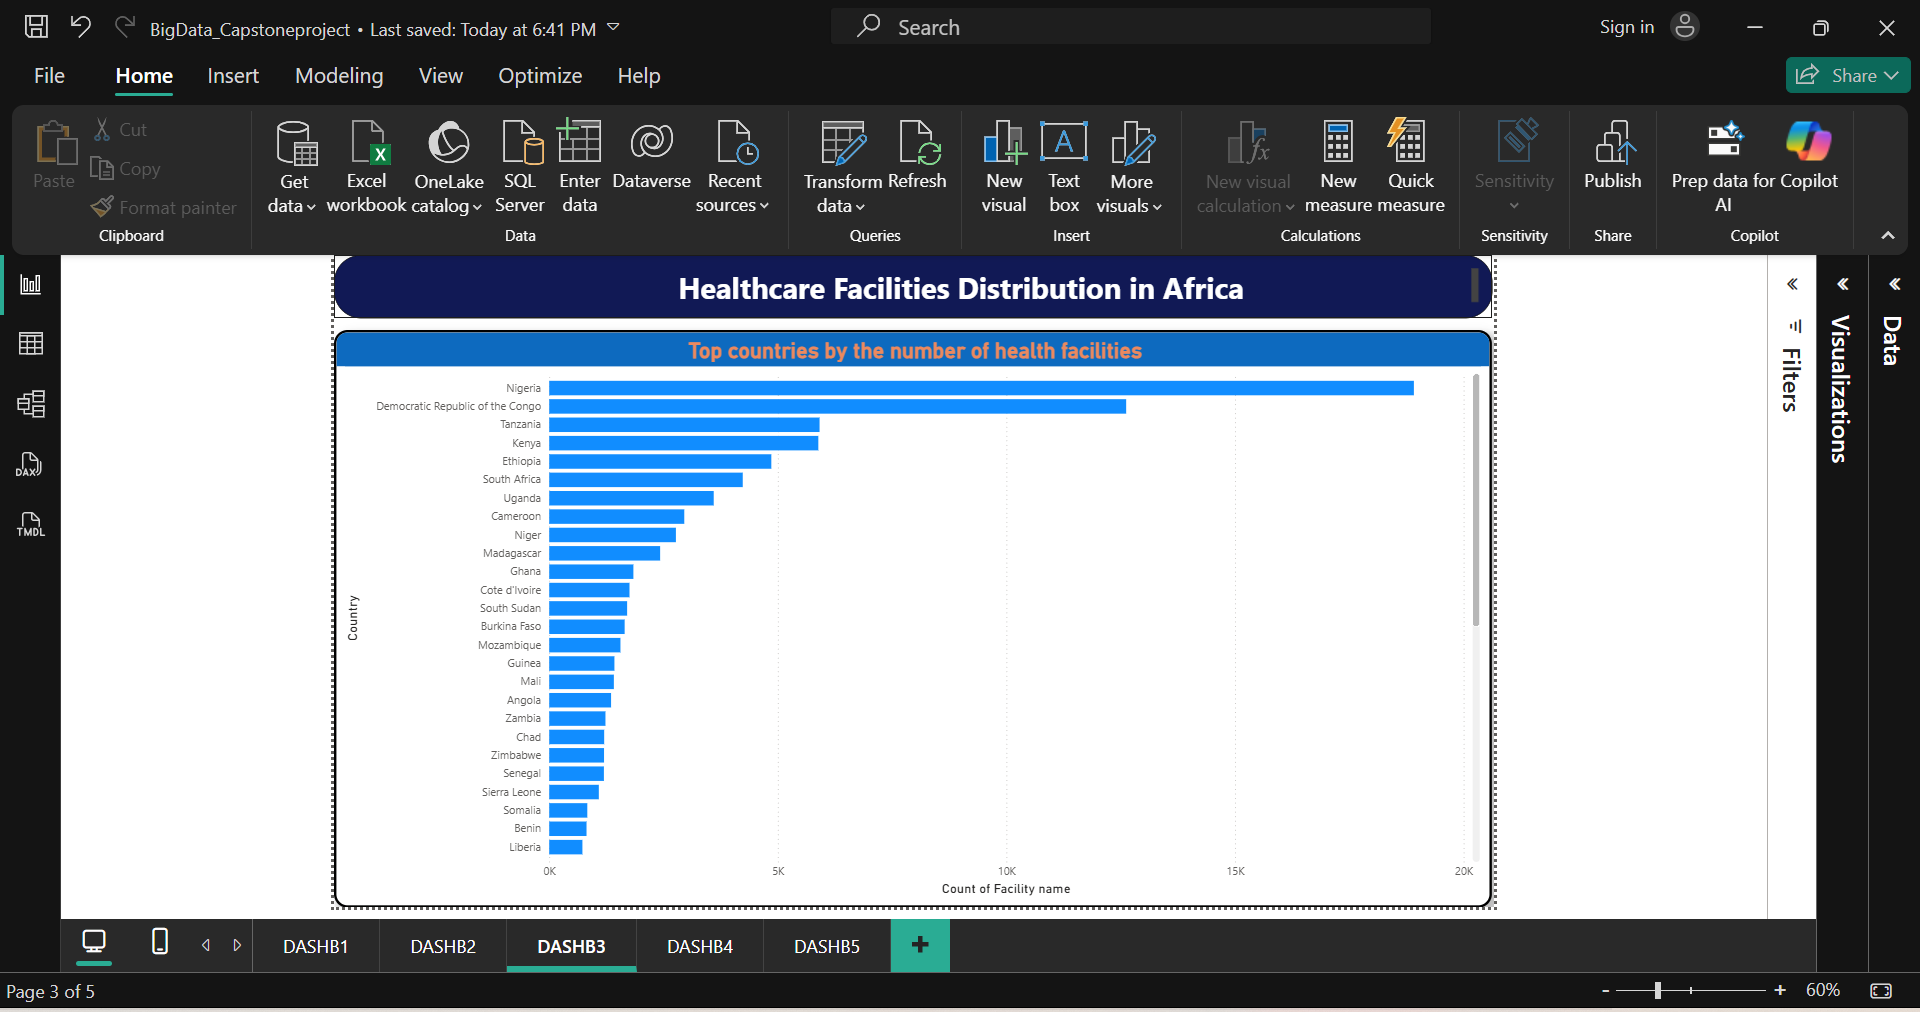

This screenshot's page, from the dashboard's own definition file:
{"tool":"powerbi","page":{"name":"DASHB3","canvas":[1280,720],"ordinal":2},"visuals":[{"type":"textbox","box":[10,0,280,280],"z":0},{"type":"textbox","box":[0,0,1279.4,69.9],"z":1000},{"type":"textbox","box":[10,290,280,280],"z":2000},{"type":"barChart","title":"Top countries by the number of health facilities","fields":{"Category":["cfa_clustered.Country"],"Y":["Count(cfa_clustered.Facility name)"]},"box":[0,82.8,1278.8,637.7],"z":3000}]}

Visuals, with their boxes on the page's 1280x720 design canvas (x1, y1, x2, y2). These are canvas units, not pixel positions in the 1920x1012 screenshot, which may show the page scaled, cropped or inside an application window:
textbox: crop(10, 0, 290, 280)
textbox: crop(0, 0, 1279, 70)
textbox: crop(10, 290, 290, 570)
"Top countries by the number of health facilities" barChart: crop(0, 83, 1279, 720)
